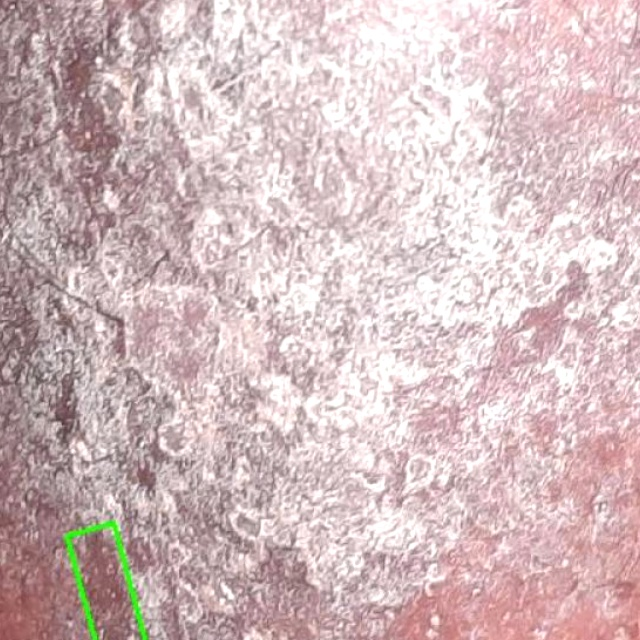Tinea Corporis: (67, 523, 145, 639)
